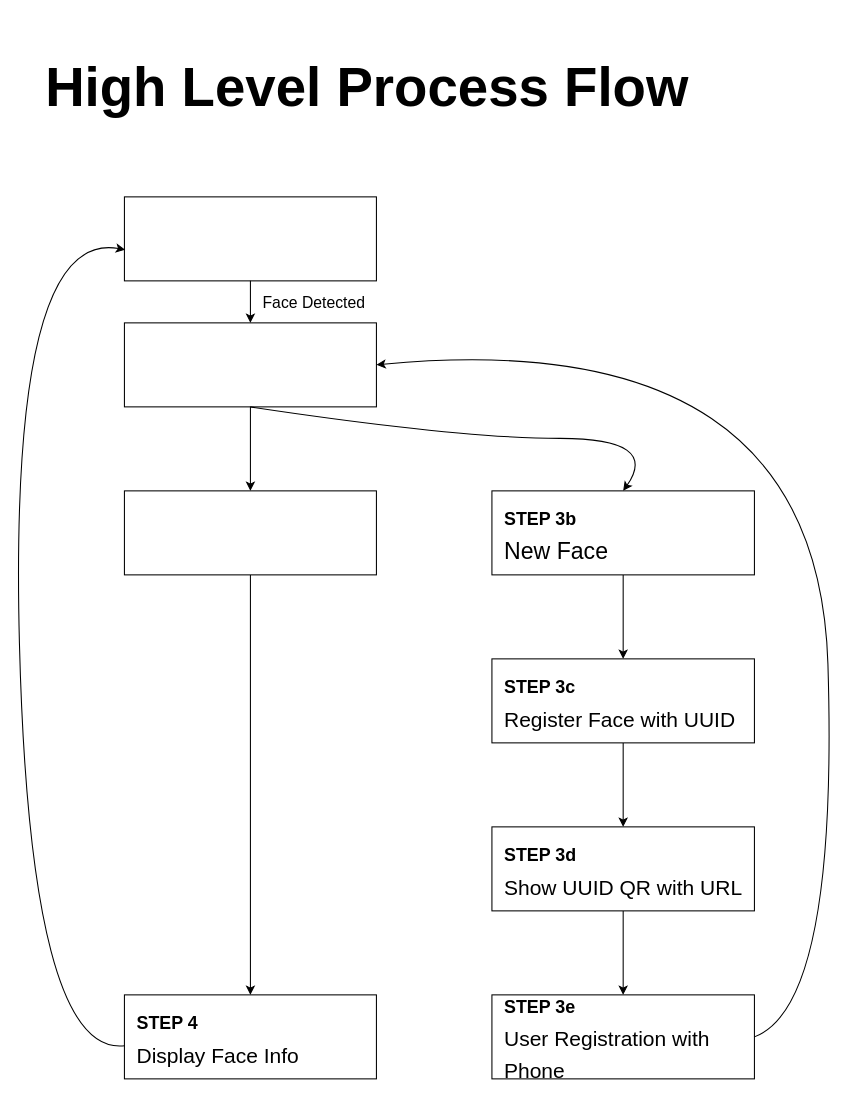
Image size: 847x1104. Some labels were removed from this diagram. Each missing label, with the centre of its shape:
"STEP 1 Scanning Mode" belongs at point (249, 238).
"STEP 2 Identification Mode" belongs at point (249, 364).
"STEP 3a Existing Face" belongs at point (249, 532).
